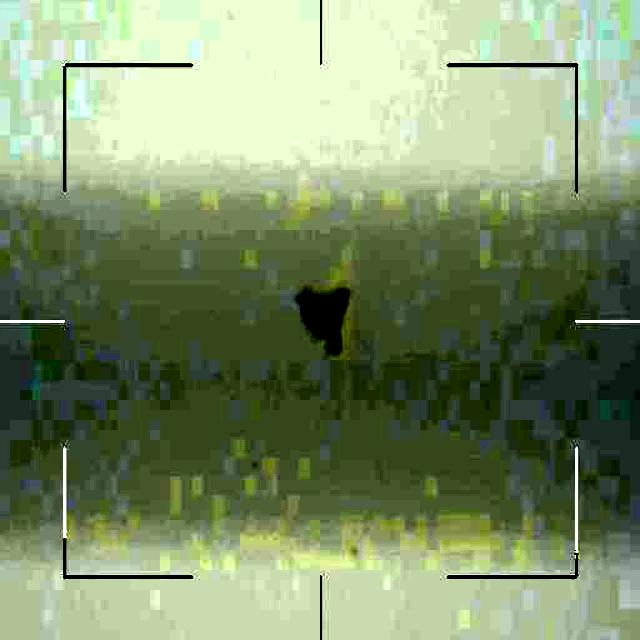bird: (295, 284, 358, 358)
